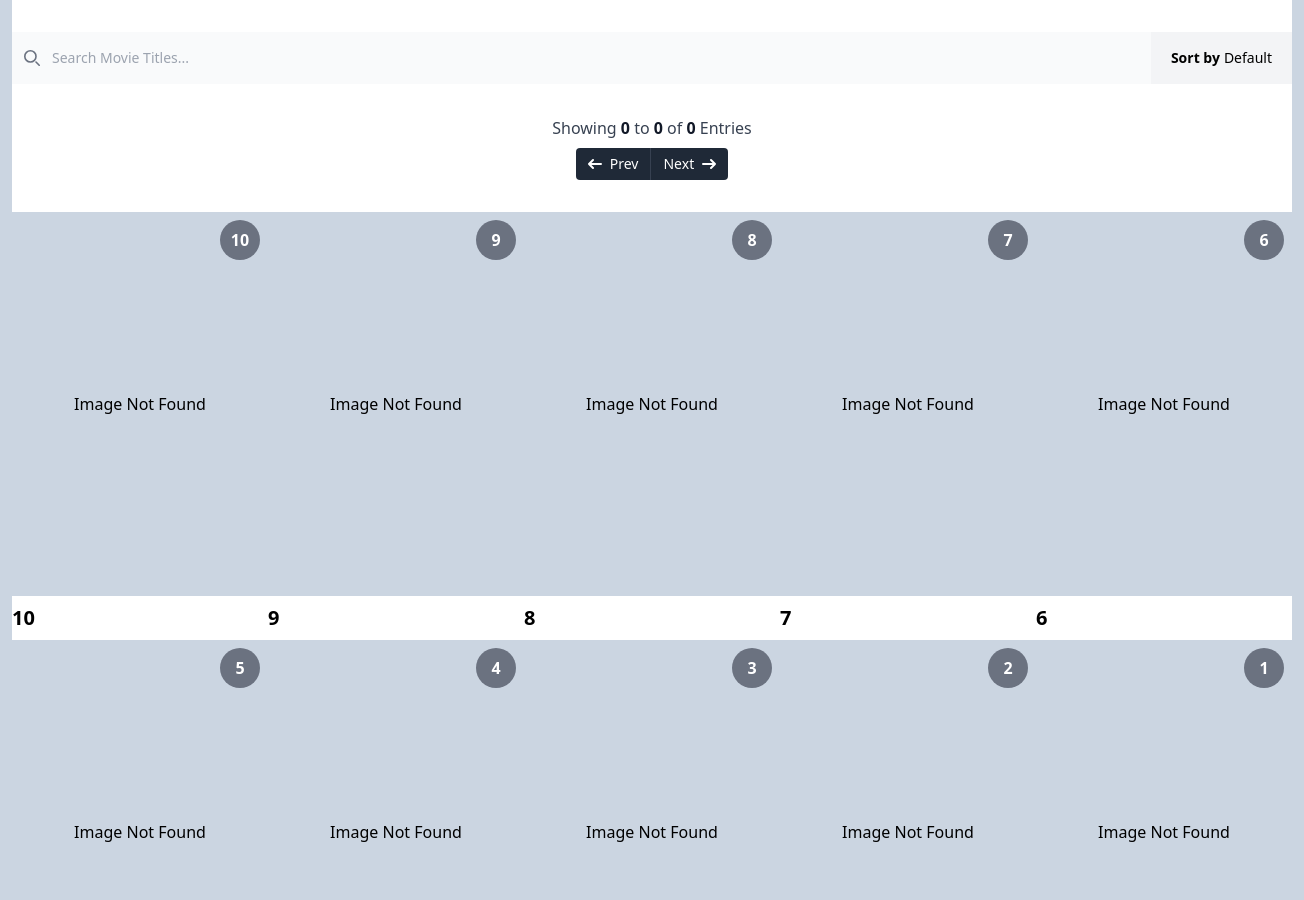
Test case: <Contents /> › should sort by vote_average ascendingly if the sort option is score
The image size is (1304, 900).
Click the text "Sort by" at (1195, 58), box [1171, 48, 1220, 68]
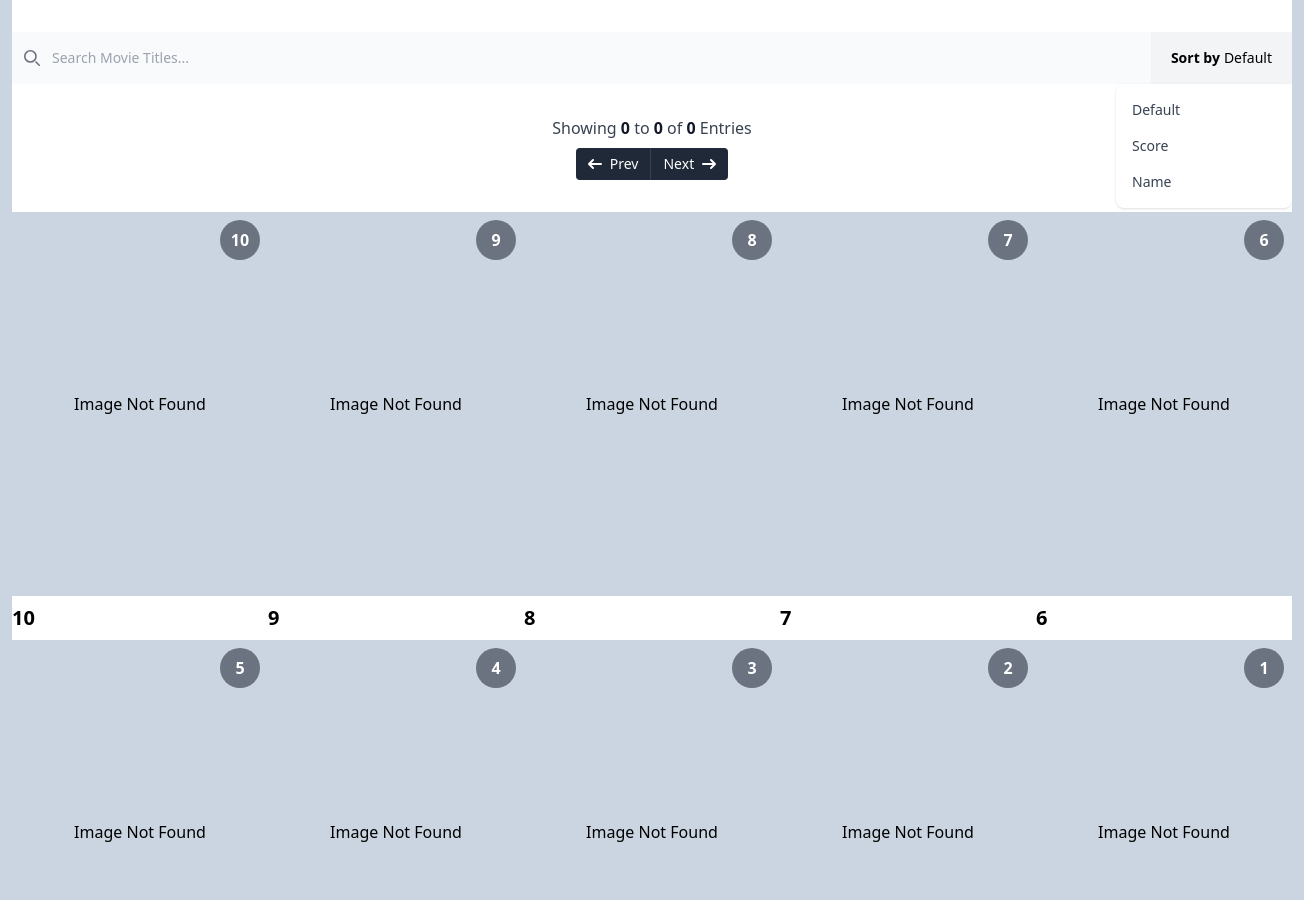
Click the button "Score" at (1204, 146), box [1116, 128, 1292, 164]
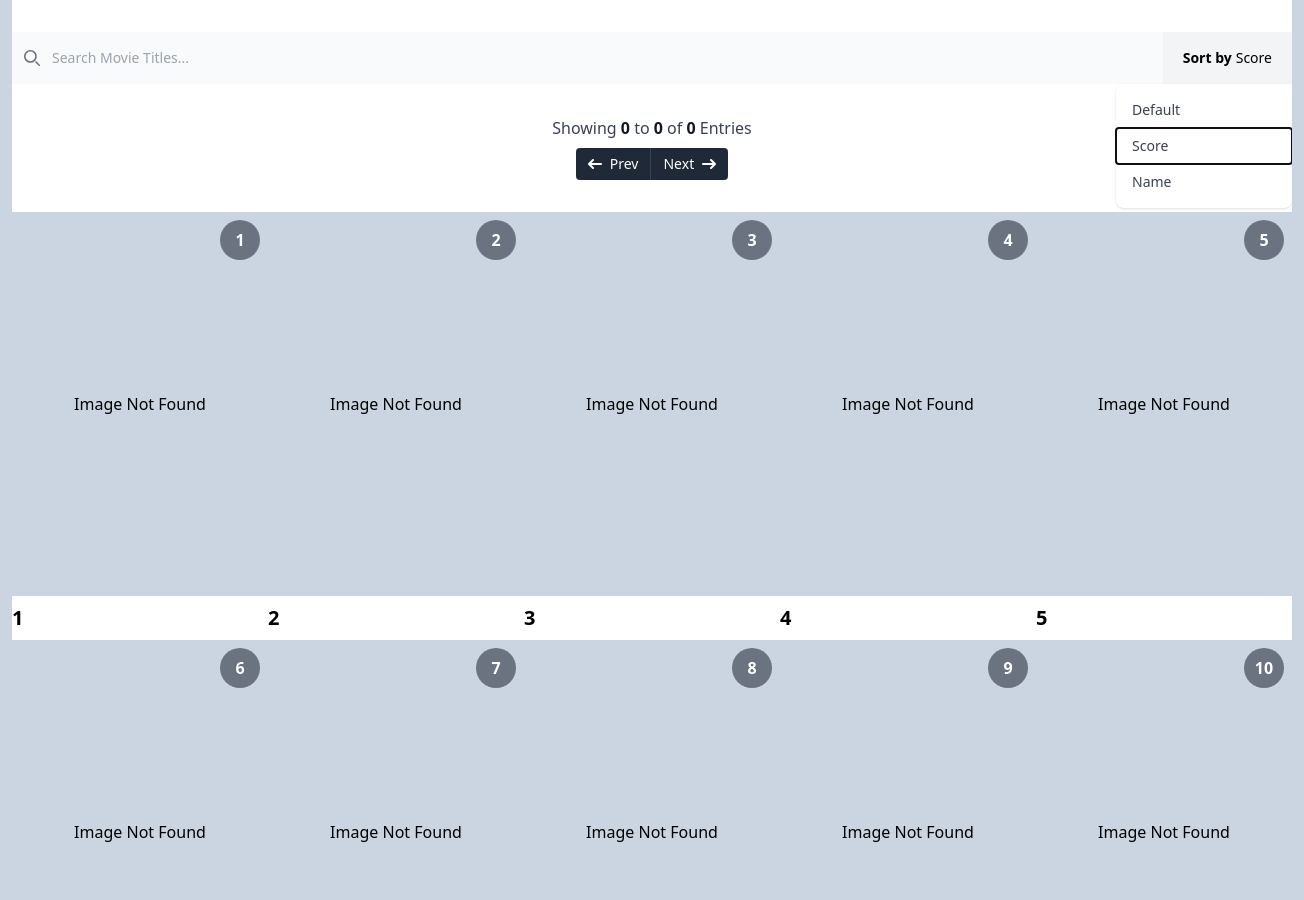
Expected: the text with test id "vote_average" reads "10", [1255, 657, 1273, 679]
